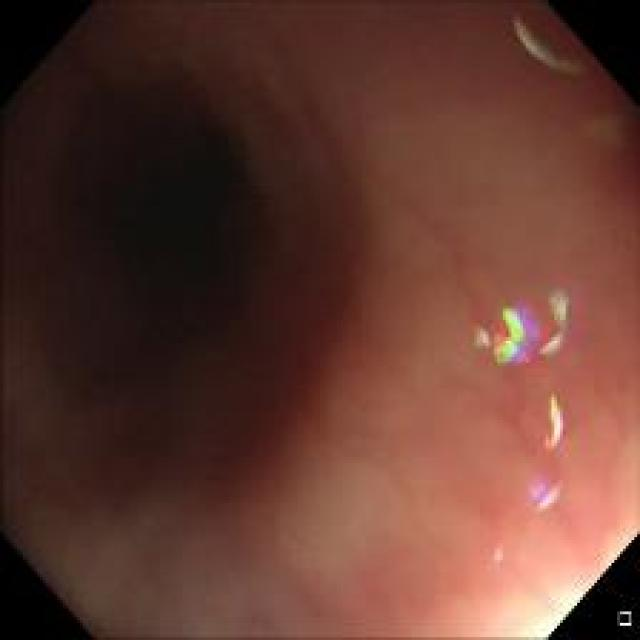blur: (28, 34, 554, 568)
color misalignment: (472, 295, 572, 365), (508, 6, 588, 80), (539, 388, 572, 459), (525, 476, 560, 505)
contrast: (54, 81, 279, 385)
saturation: (491, 546, 614, 630)
